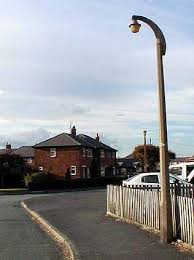light_pole: (147, 22, 176, 250)
